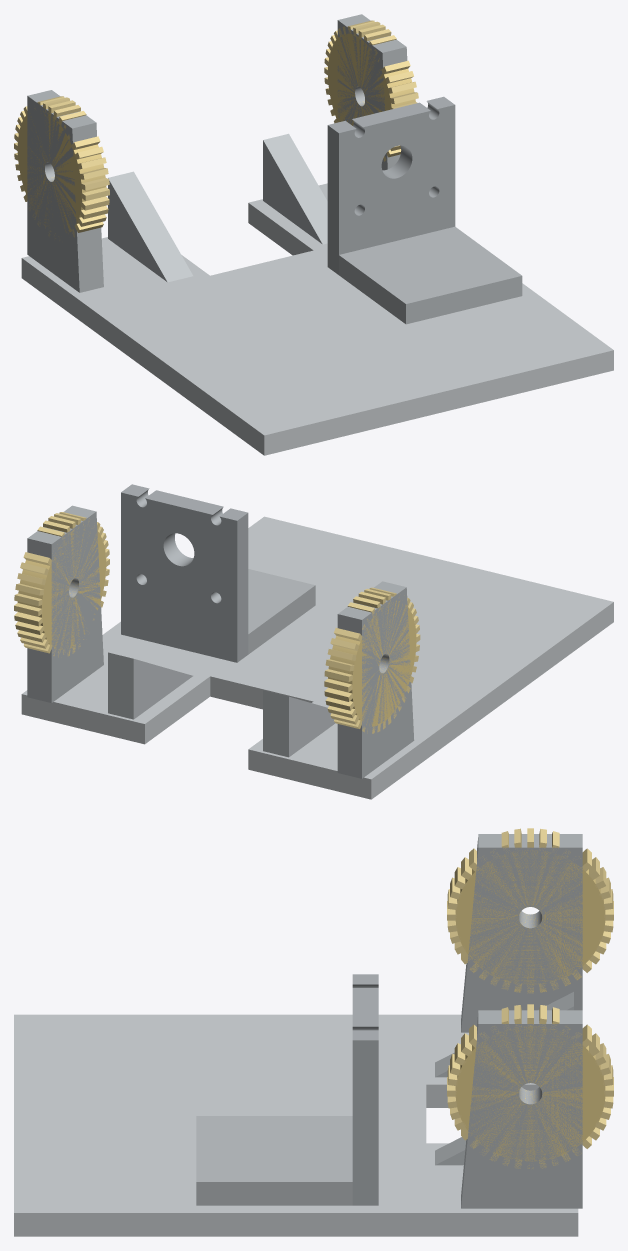
The picture shows the model from 3 angles, top to bottom: view 1: azimuth 30°, elevation 25°; view 2: azimuth 150°, elevation 25°; view 3: azimuth 270°, elevation 25°; orthographic projection. The views are drawn at different scales.
Size of the model in its own units: 0.1082 by 0.0545 by 0.1382.
